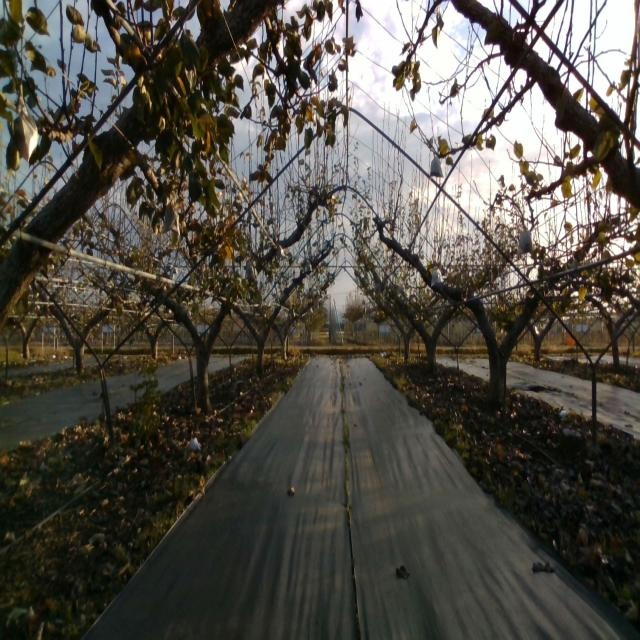pearbags: (11, 99, 40, 161), (162, 199, 180, 238), (516, 227, 533, 254), (429, 152, 444, 180), (430, 266, 445, 288), (244, 262, 256, 282)
